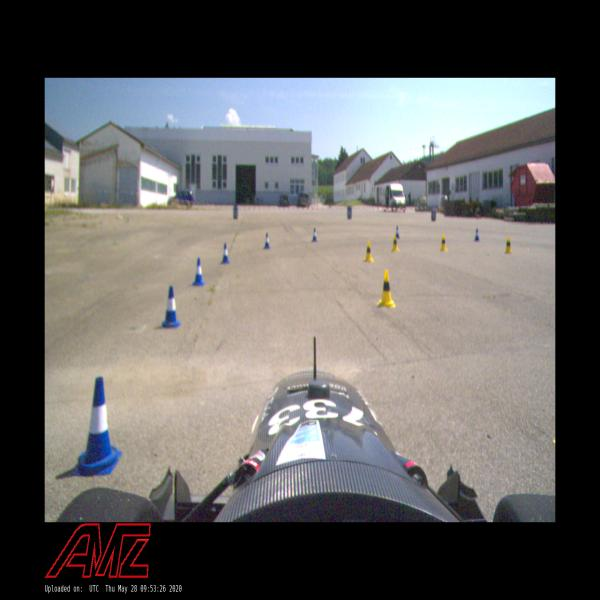blue_cone: (73, 375, 122, 477), (160, 286, 180, 329), (192, 257, 205, 286), (220, 242, 231, 264), (264, 231, 271, 250), (311, 228, 318, 242), (474, 228, 481, 241), (395, 225, 400, 239)
yellow_cone: (377, 269, 396, 307), (364, 241, 374, 262), (392, 235, 400, 252), (440, 235, 448, 252), (505, 237, 512, 254)
